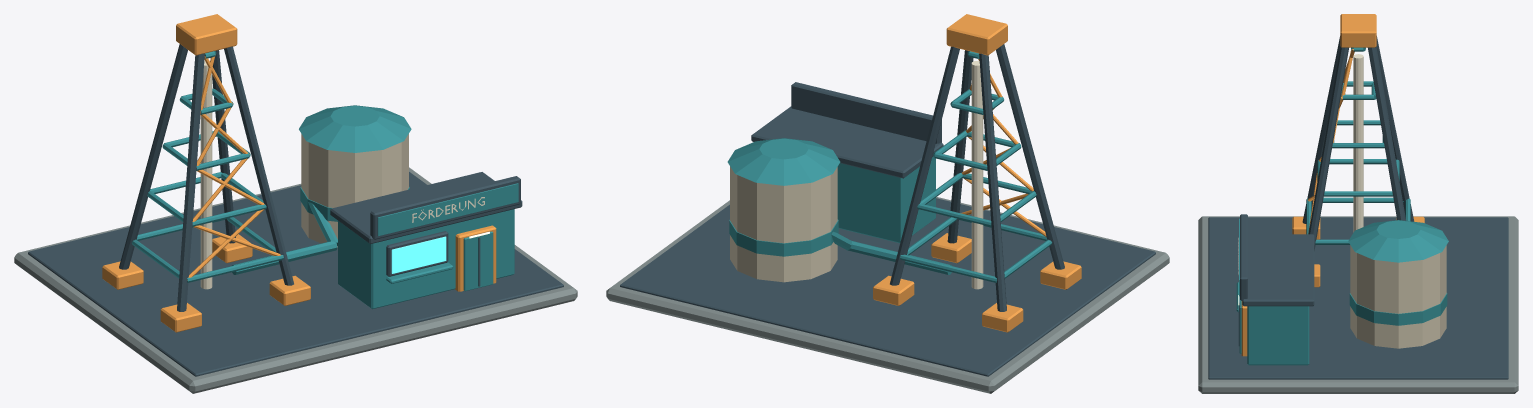
File: drill.glb
3 views of the same model, side by side, from view 1: azimuth 30°, elevation 25°; view 2: azimuth 150°, elevation 25°; view 3: azimuth 270°, elevation 25° (orthographic). The views are drawn at different scales.
Visible parts, largest first — view 1: drill; view 2: drill; view 3: drill.
Part boxes in pixels (box(x1,y1,x2,y2)): drill: box(14, 14, 577, 393); drill: box(606, 14, 1169, 393); drill: box(1198, 14, 1518, 393).
Bounding box in the file's own units: 10 × 6.88 × 8.
